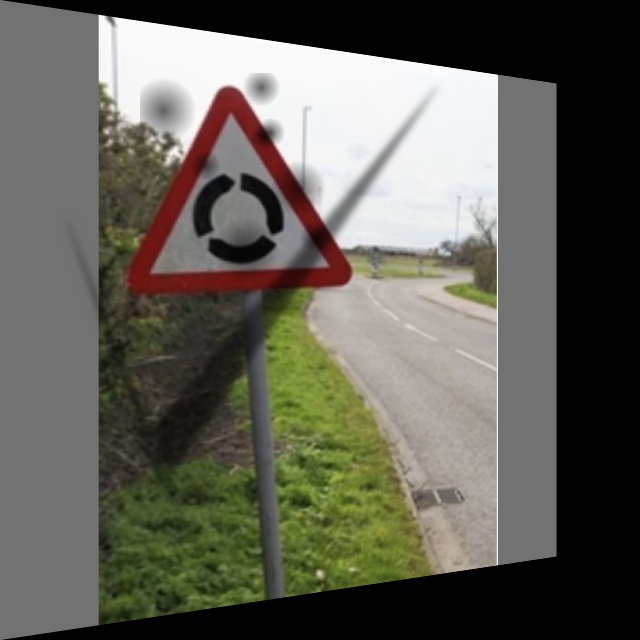Round_About: (140, 73, 348, 288)
